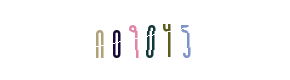0: (105, 0, 185, 80)
4: (120, 0, 200, 80)
5: (123, 0, 203, 80)
9: (96, 0, 176, 80)
N: (77, 0, 157, 80)
O: (94, 0, 174, 80)
